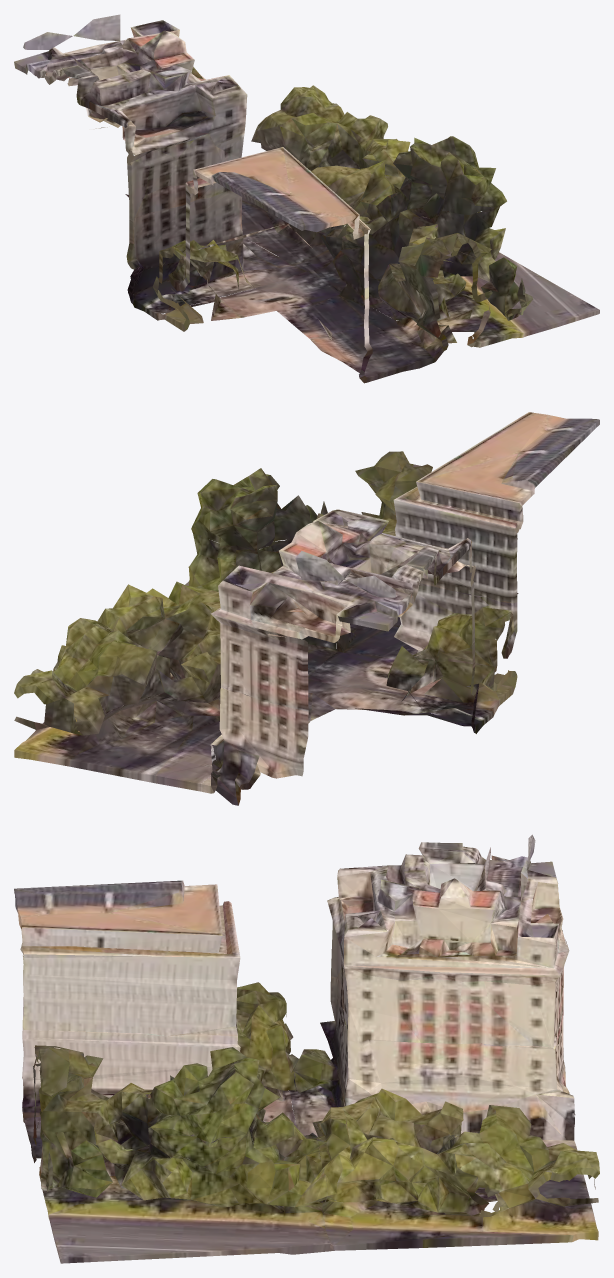
The picture shows the model from 3 angles, top to bottom: view 1: azimuth 30°, elevation 25°; view 2: azimuth 150°, elevation 25°; view 3: azimuth 270°, elevation 25°; orthographic projection. The views are drawn at different scales.
Parts seen in each view (by area): view 1: Mesh_0; view 2: Mesh_0; view 3: Mesh_0.
Part boxes in pixels (x1,y1,x2,y2): Mesh_0: [14, 14, 599, 383]; Mesh_0: [14, 412, 599, 805]; Mesh_0: [14, 834, 599, 1263].
Bounding box in the file's own units: 66.56 × 39.3 × 82.48.
Materials: 1 (1 with a texture image).
